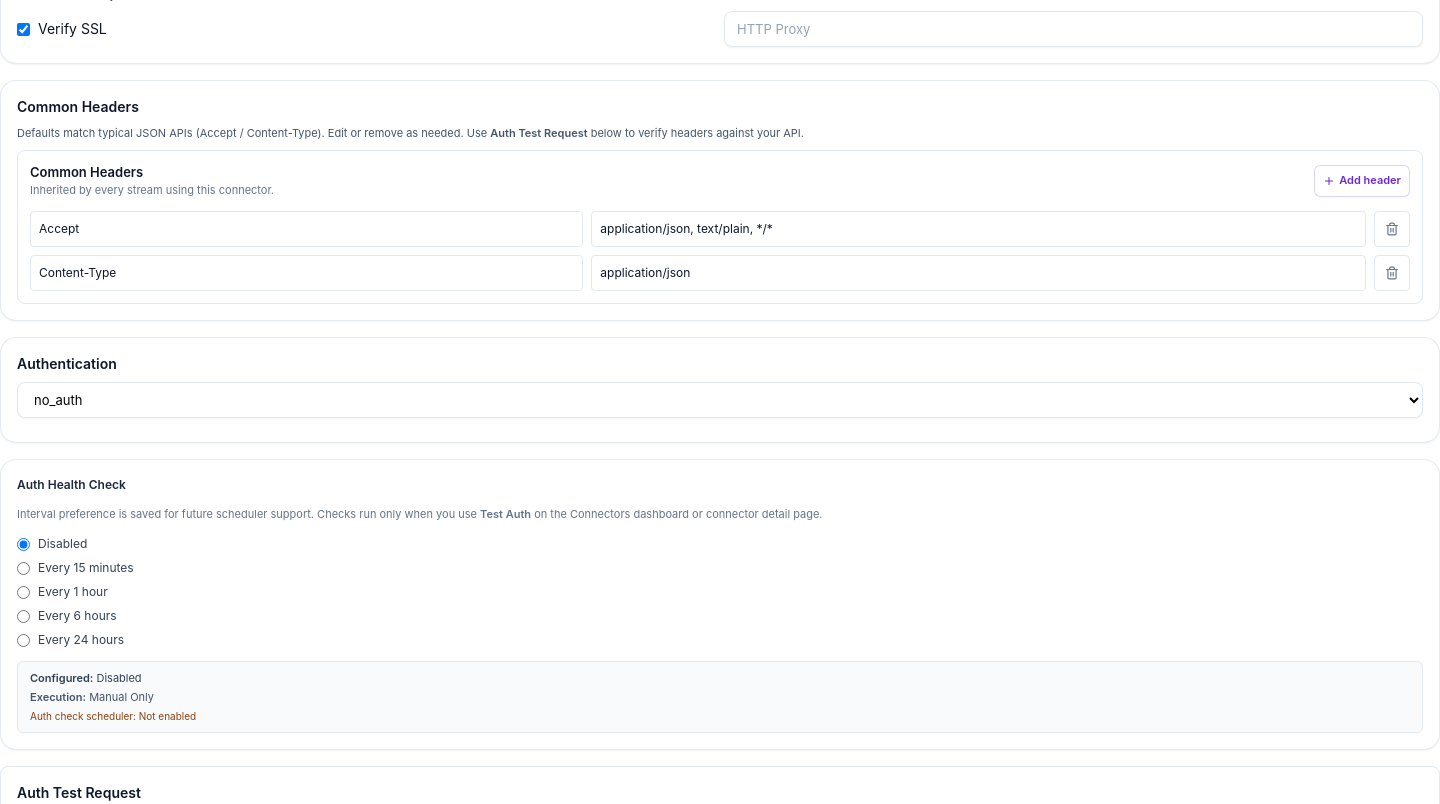
Test: NewConnectorWizardPage › toggles auth fields by auth type
The width and height of the screenshot is (1440, 804).
(page scrolled)
Expected: the field labelled "Basic Username" is not shown
Select "basic" in the dropdown named "Authentication Type" at (720, 400), box [17,382,1423,418]
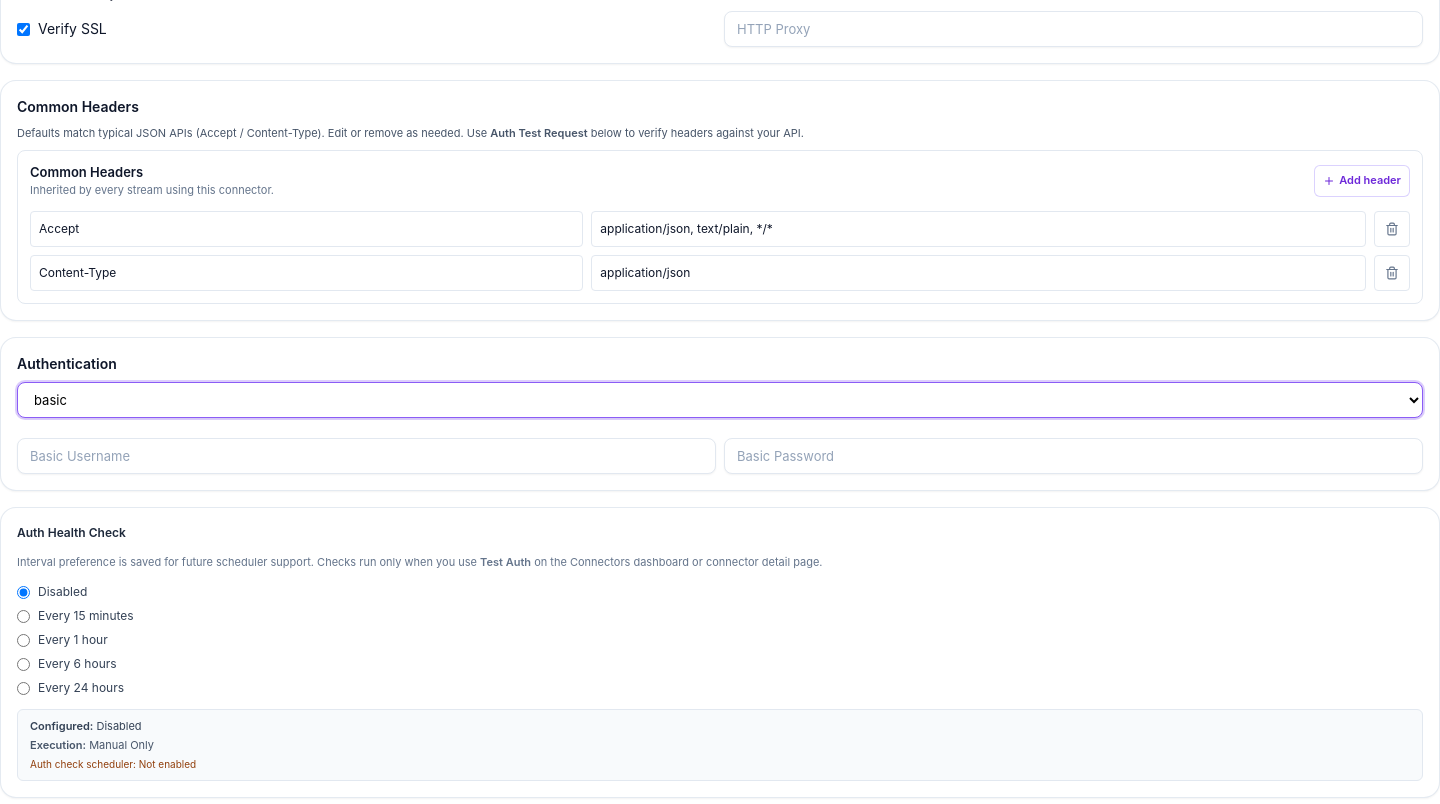
Expected: the field labelled "Basic Username" is shown, [17,438,716,474]
Expected: the password field labelled "Basic Password" is shown, [724,438,1423,474]
Select "bearer" in the dropdown named "Authentication Type" at (720, 400), box [17,382,1423,418]
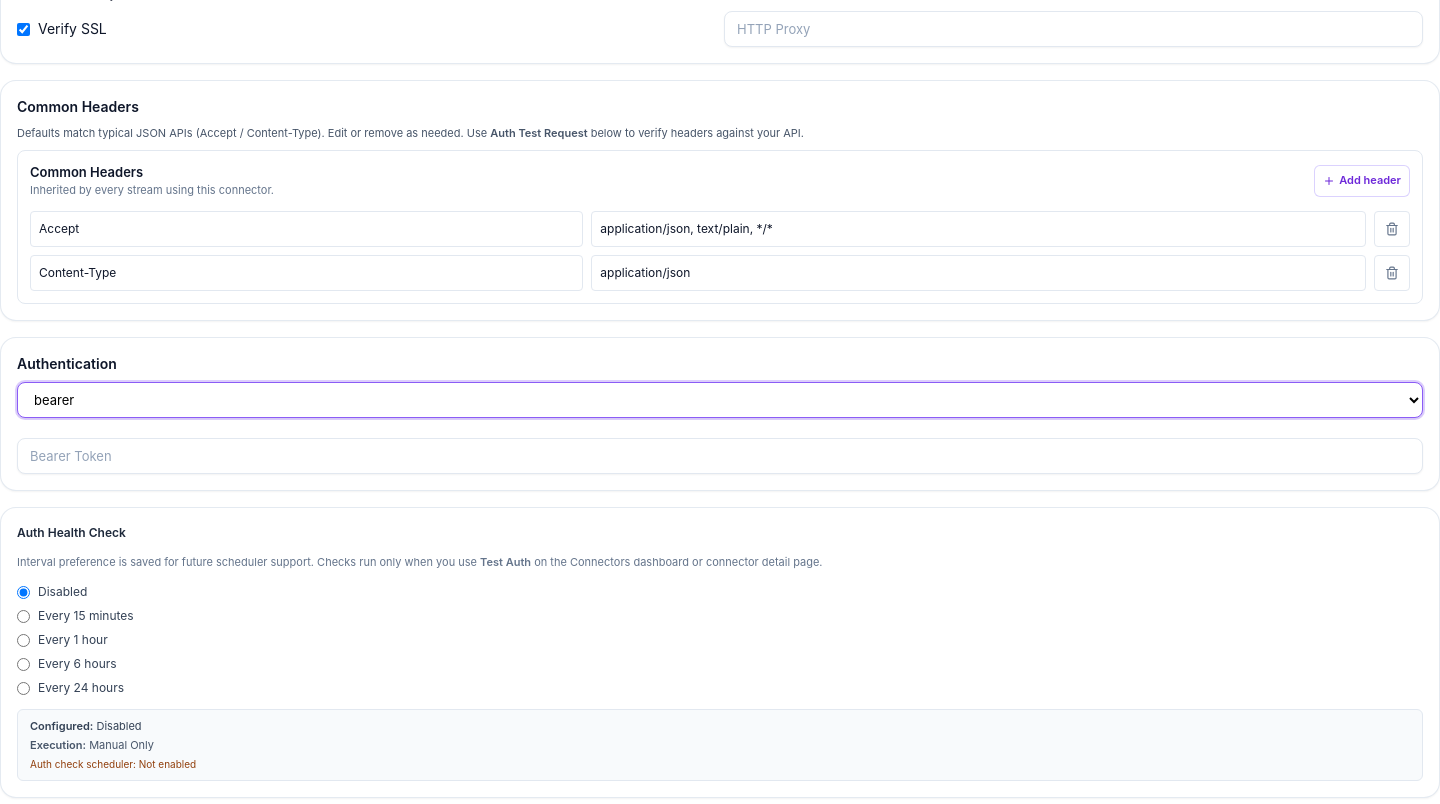
Expected: the password field labelled "Bearer Token" is shown, [17,438,1423,474]
Select "api_key" in the dropdown named "Authentication Type" at (720, 400), box [17,382,1423,418]
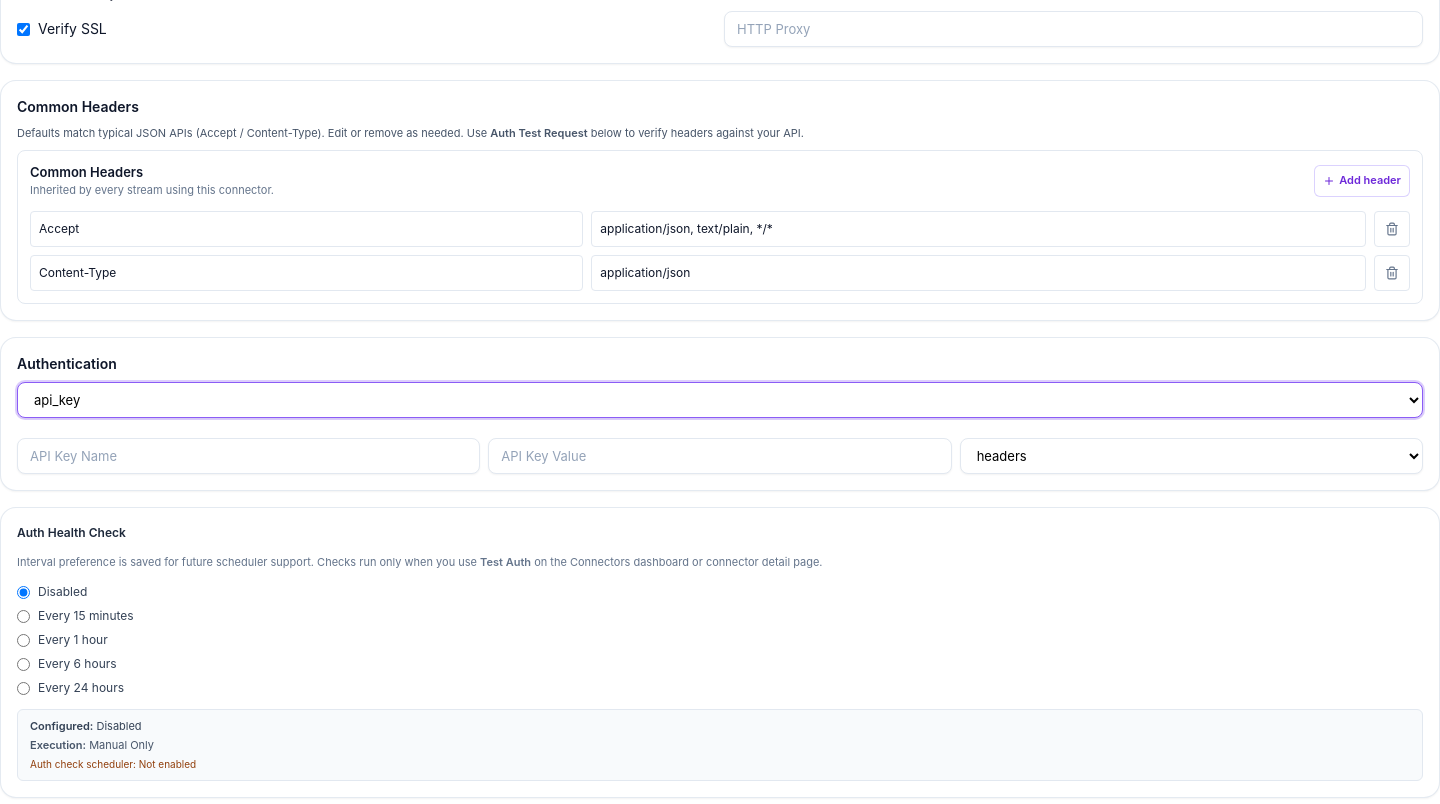
Expected: the field labelled "API Key Name" is shown, [17,438,480,474]
Expected: the password field labelled "API Key Value" is shown, [488,438,952,474]
Expected: the dropdown named "API Key Location" is shown, [960,438,1423,474]
Select "vendor_jwt_exchange" in the dropdown named "Authentication Type" at (720, 400), box [17,382,1423,418]
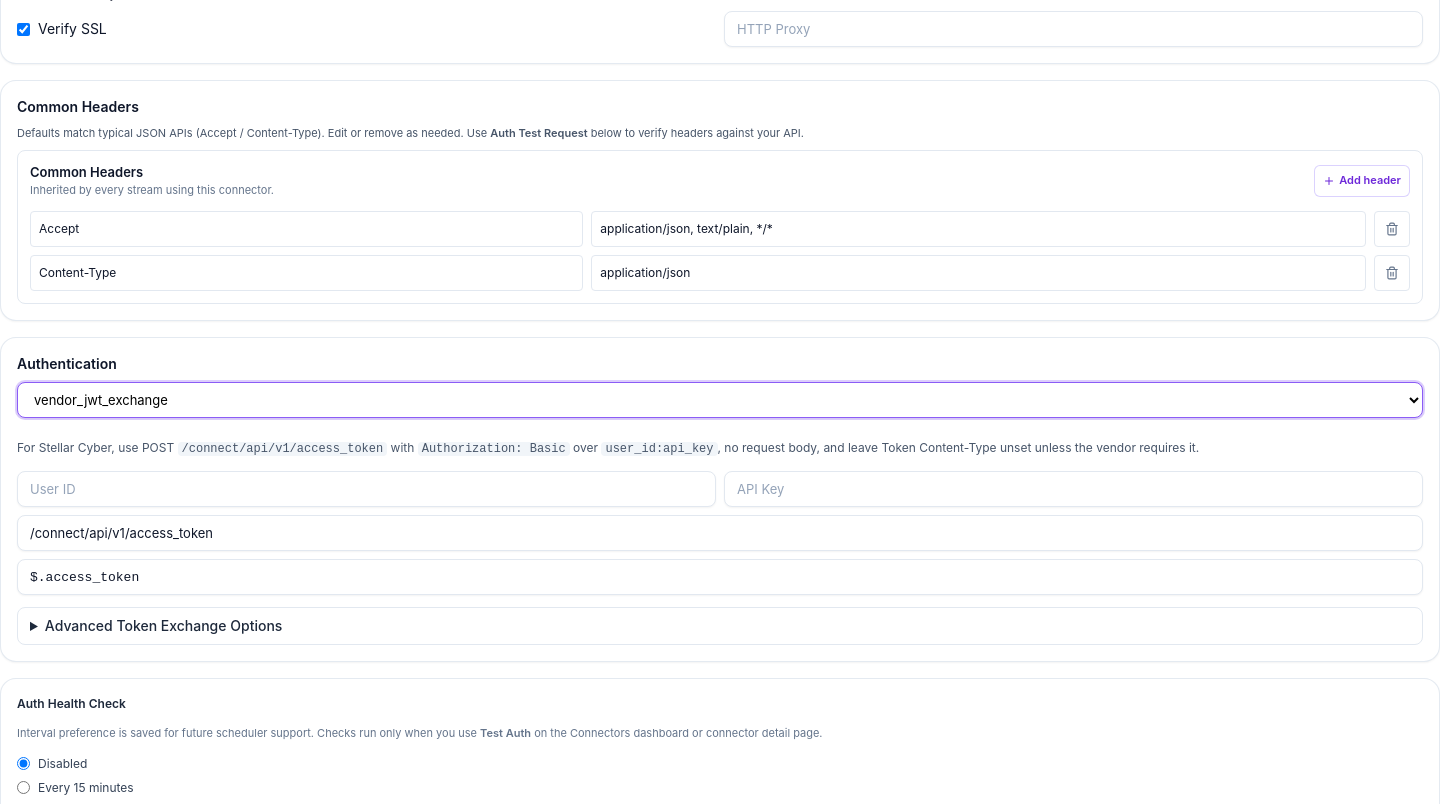
Expected: the password field labelled "API Key" is shown, [724,471,1423,507]
Expected: the field labelled "User ID" is shown, [17,471,716,507]
Expected: the field named "Token exchange URL" is shown, [17,515,1423,551]
